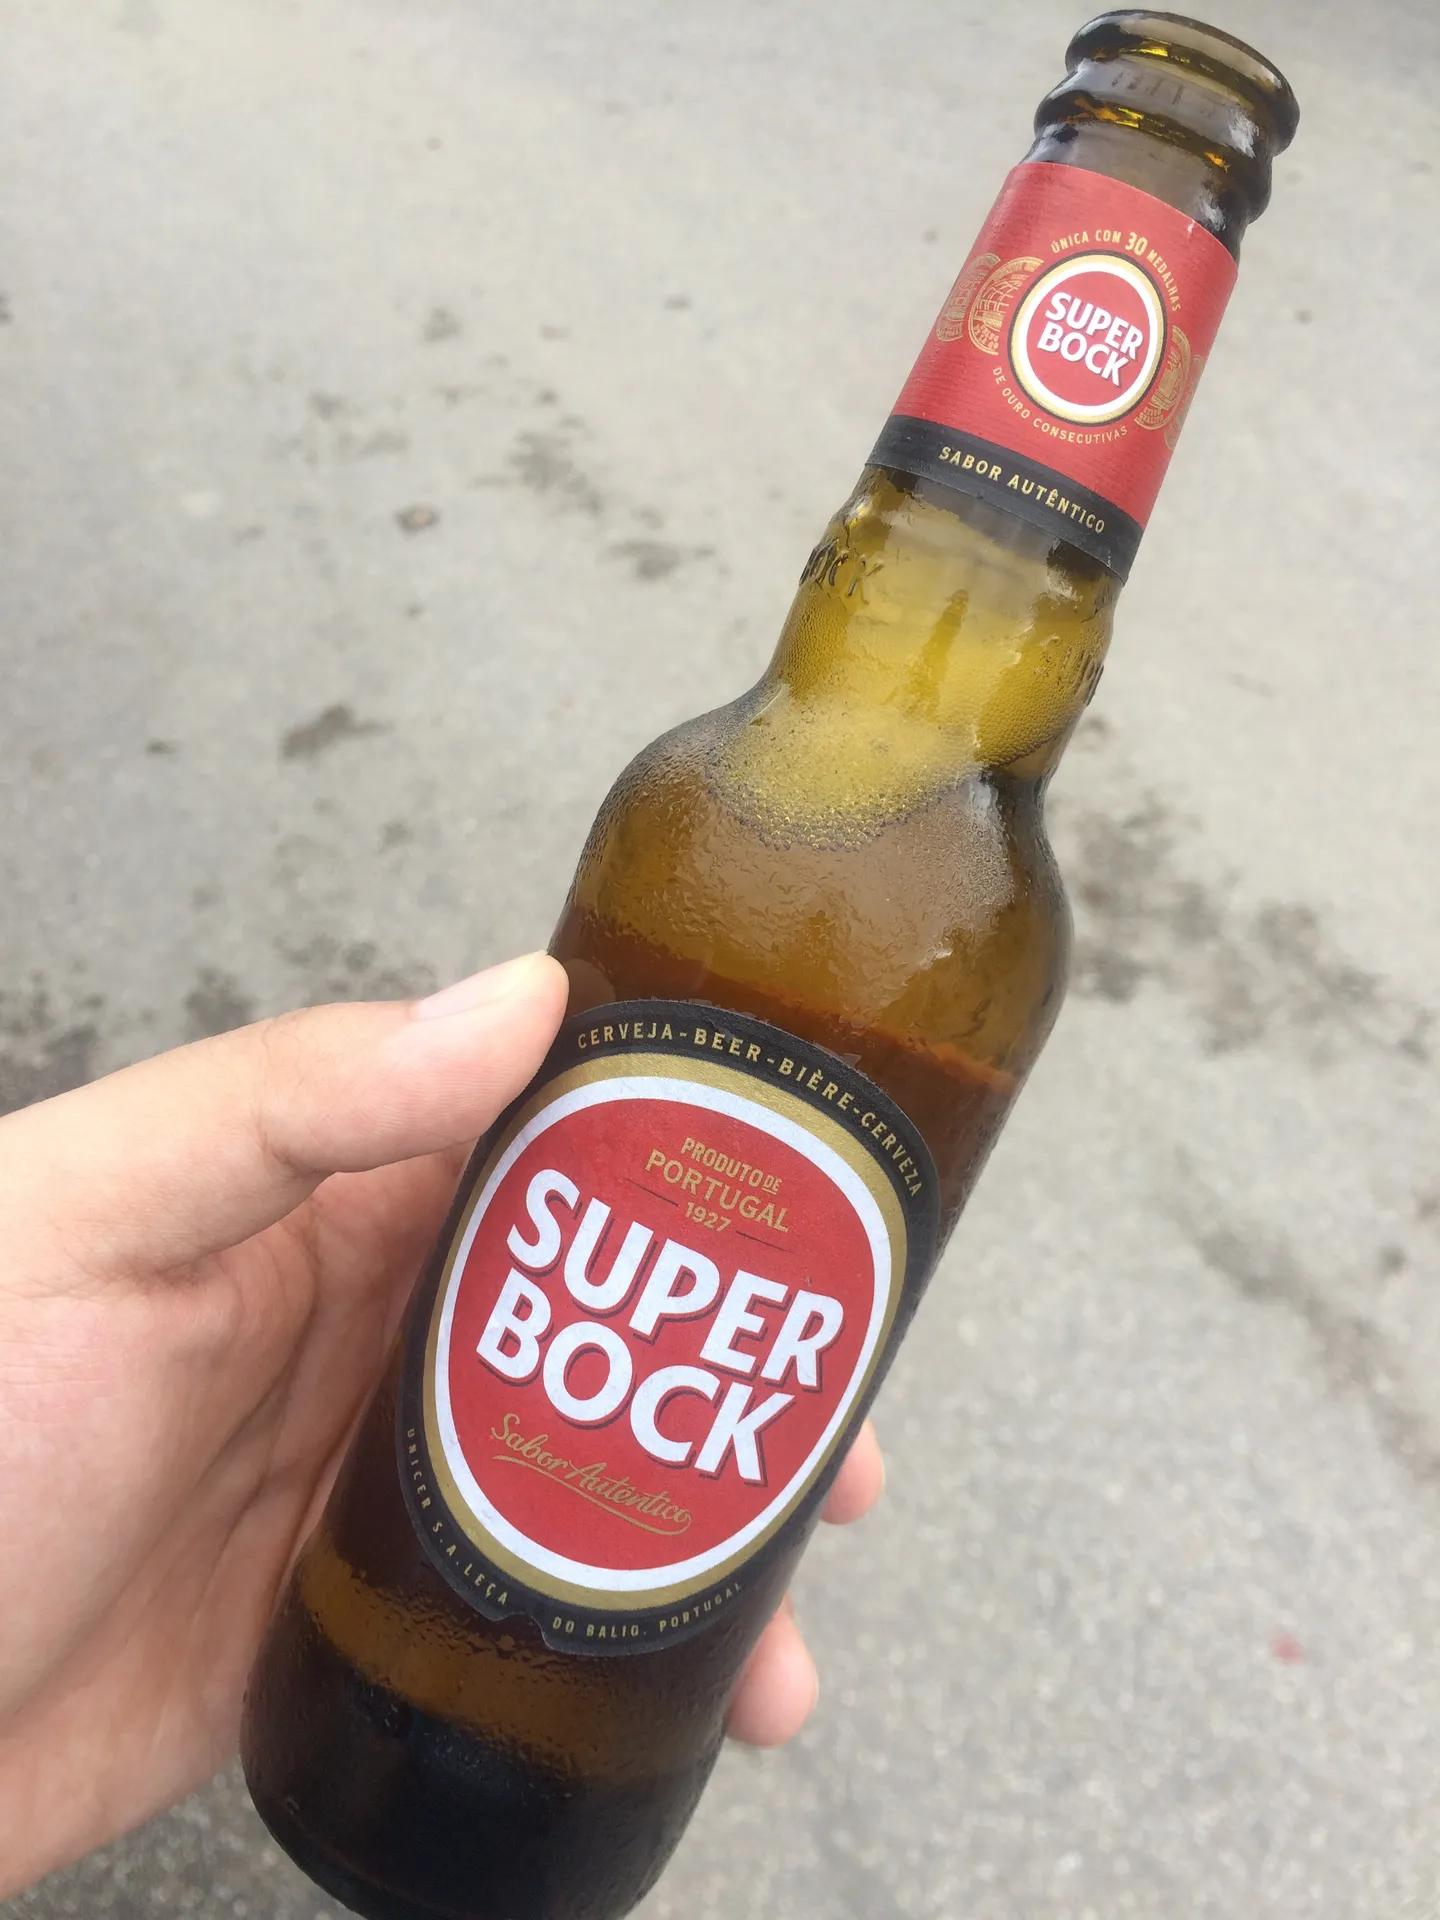glass: (260, 0, 1295, 1920)
